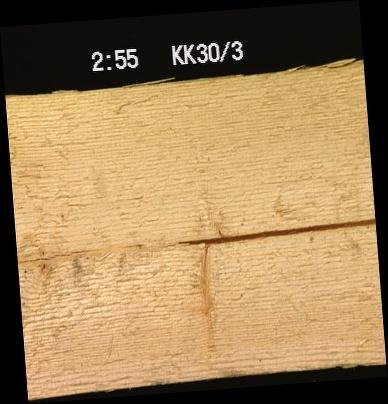split: (17, 238, 195, 259)
